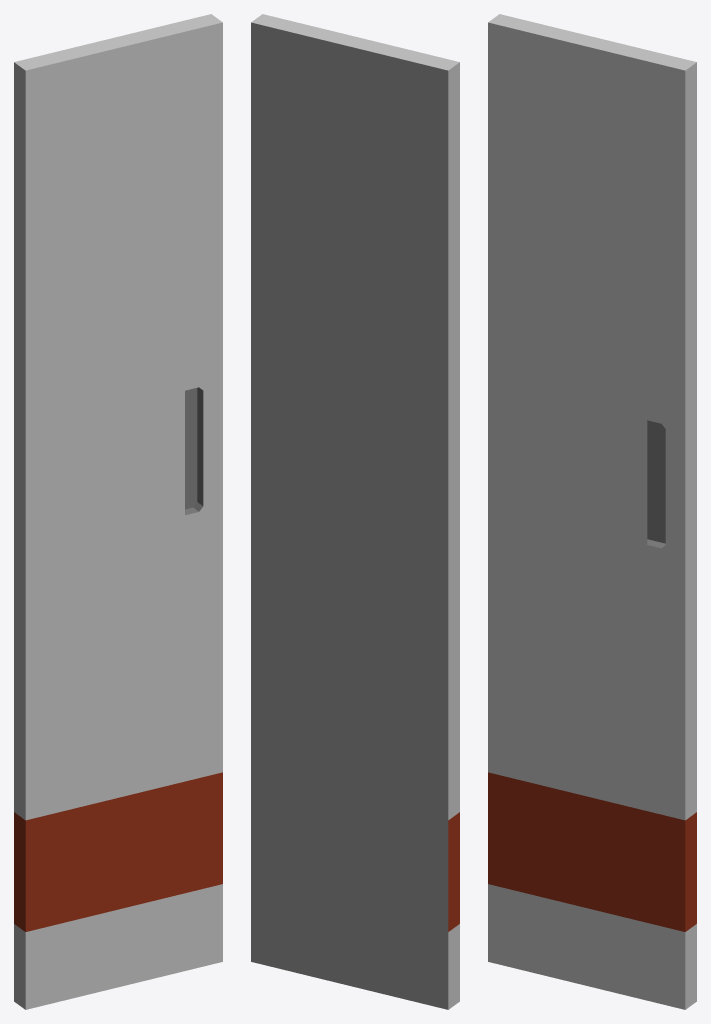
Rendered from drawer-d.glb.
The picture shows the model from 3 angles, left to right: view 1: azimuth 30°, elevation 25°; view 2: azimuth 150°, elevation 25°; view 3: azimuth 330°, elevation 25°; orthographic projection.
Parts seen in each view (by area): view 1: Drawer_D; view 2: Drawer_D; view 3: Drawer_D.
Boxes of the visible parts, x1,y1,x2,y2 form: Drawer_D: [14, 14, 222, 1009]; Drawer_D: [251, 14, 459, 1009]; Drawer_D: [488, 14, 696, 1009].
Size of the model in its own units: 39.13 by 178 by 3.98.
1 material, 1 textured.
